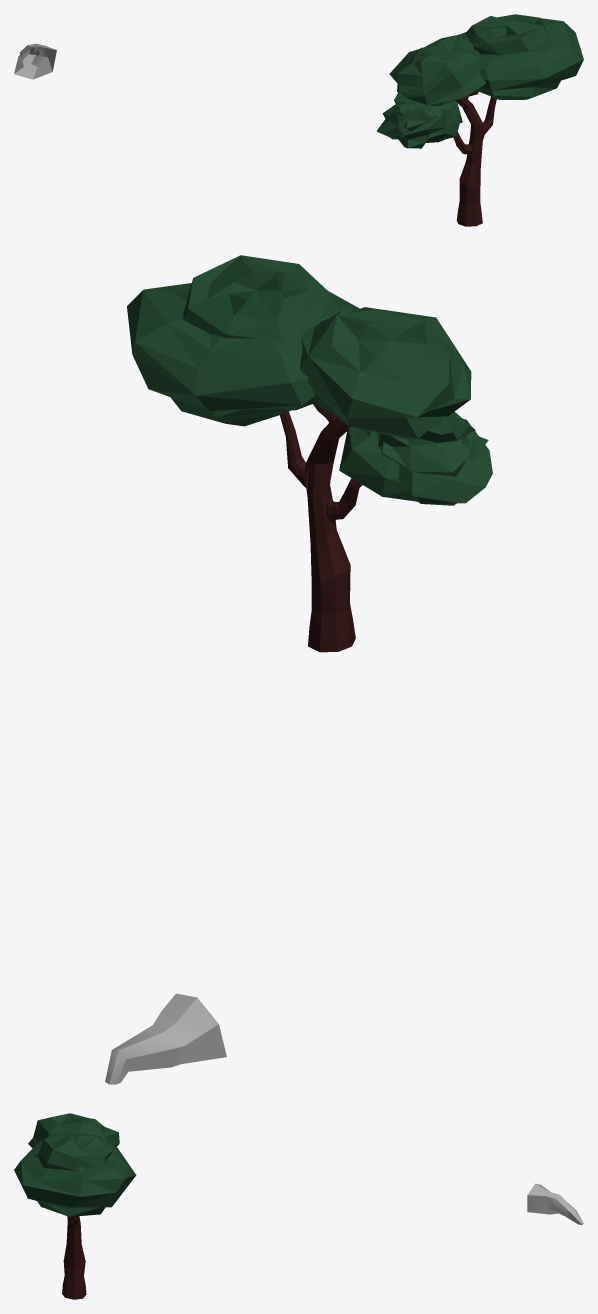
The model's file is 01_treeA_01.fbx.
3 views of the same model, one above another, from view 1: azimuth 30°, elevation 25°; view 2: azimuth 150°, elevation 25°; view 3: azimuth 270°, elevation 25° (orthographic). The views are drawn at different scales.
Parts seen in each view (by area): view 1: _treeCopaA_02, _treeTroncoB_06, polySurface12; view 2: _treeCopaA_02, _treeTroncoB_06, polySurface12; view 3: _treeCopaA_02, _treeTroncoB_06, polySurface12.
Boxes of the visible parts, x1=… form: _treeCopaA_02: x1=377, y1=14, x2=583, y2=148; _treeTroncoB_06: x1=453, y1=90, x2=496, y2=226; polySurface12: x1=14, y1=43, x2=56, y2=79; _treeCopaA_02: x1=127, y1=255, x2=492, y2=505; _treeTroncoB_06: x1=280, y1=403, x2=362, y2=652; polySurface12: x1=105, y1=993, x2=226, y2=1084; _treeCopaA_02: x1=14, y1=1113, x2=136, y2=1216; _treeTroncoB_06: x1=62, y1=1216, x2=86, y2=1299; polySurface12: x1=527, y1=1183, x2=583, y2=1224.
Size of the model in its own units: 7.57 by 4.52 by 13.32.
